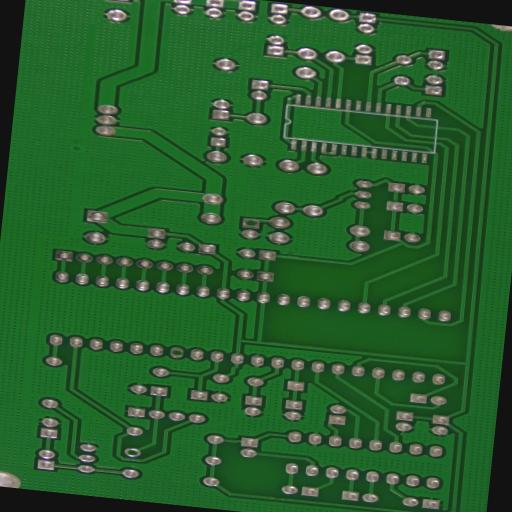missing_hole: (123, 446, 142, 457), (242, 218, 260, 228), (168, 348, 186, 358)
